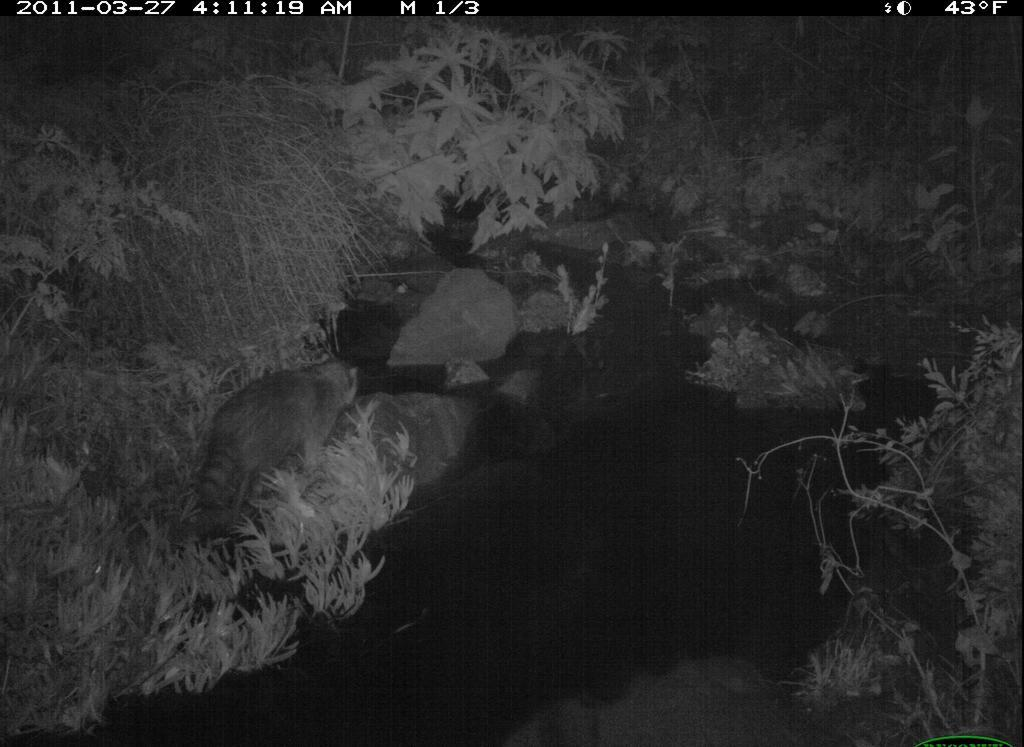raccoon: (190, 355, 364, 530)
